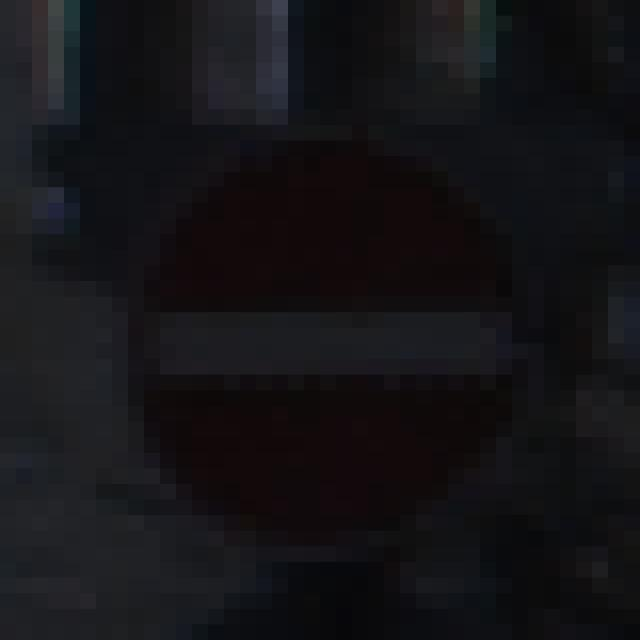No Entry: (81, 79, 561, 563)
